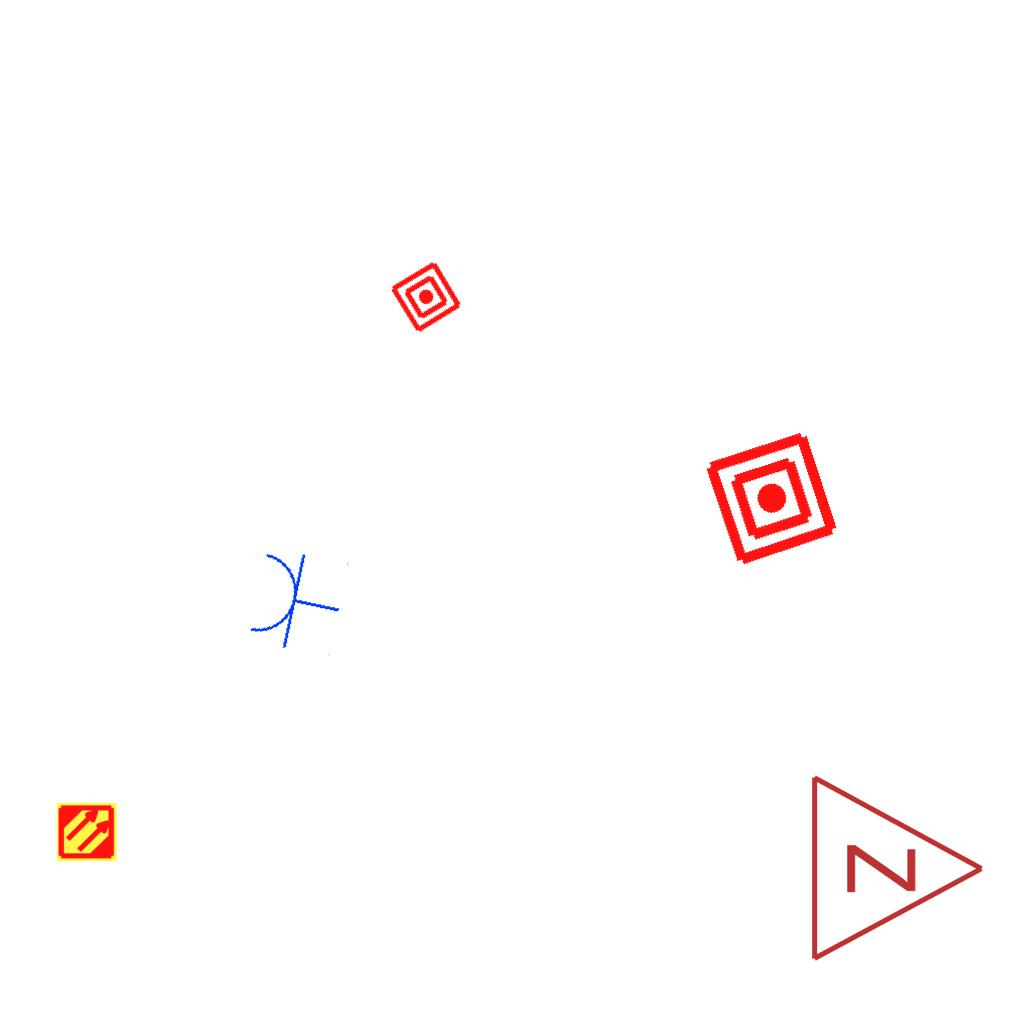ASR_Ansaugrauchmelder: (56, 801, 118, 863)
NAM-Nichtautomatischer_Melder: (700, 427, 843, 570), (387, 258, 465, 336)
Schukosteckdose_einfach: (244, 542, 350, 659)
Zimmersignalleuchte: (797, 768, 997, 964)
